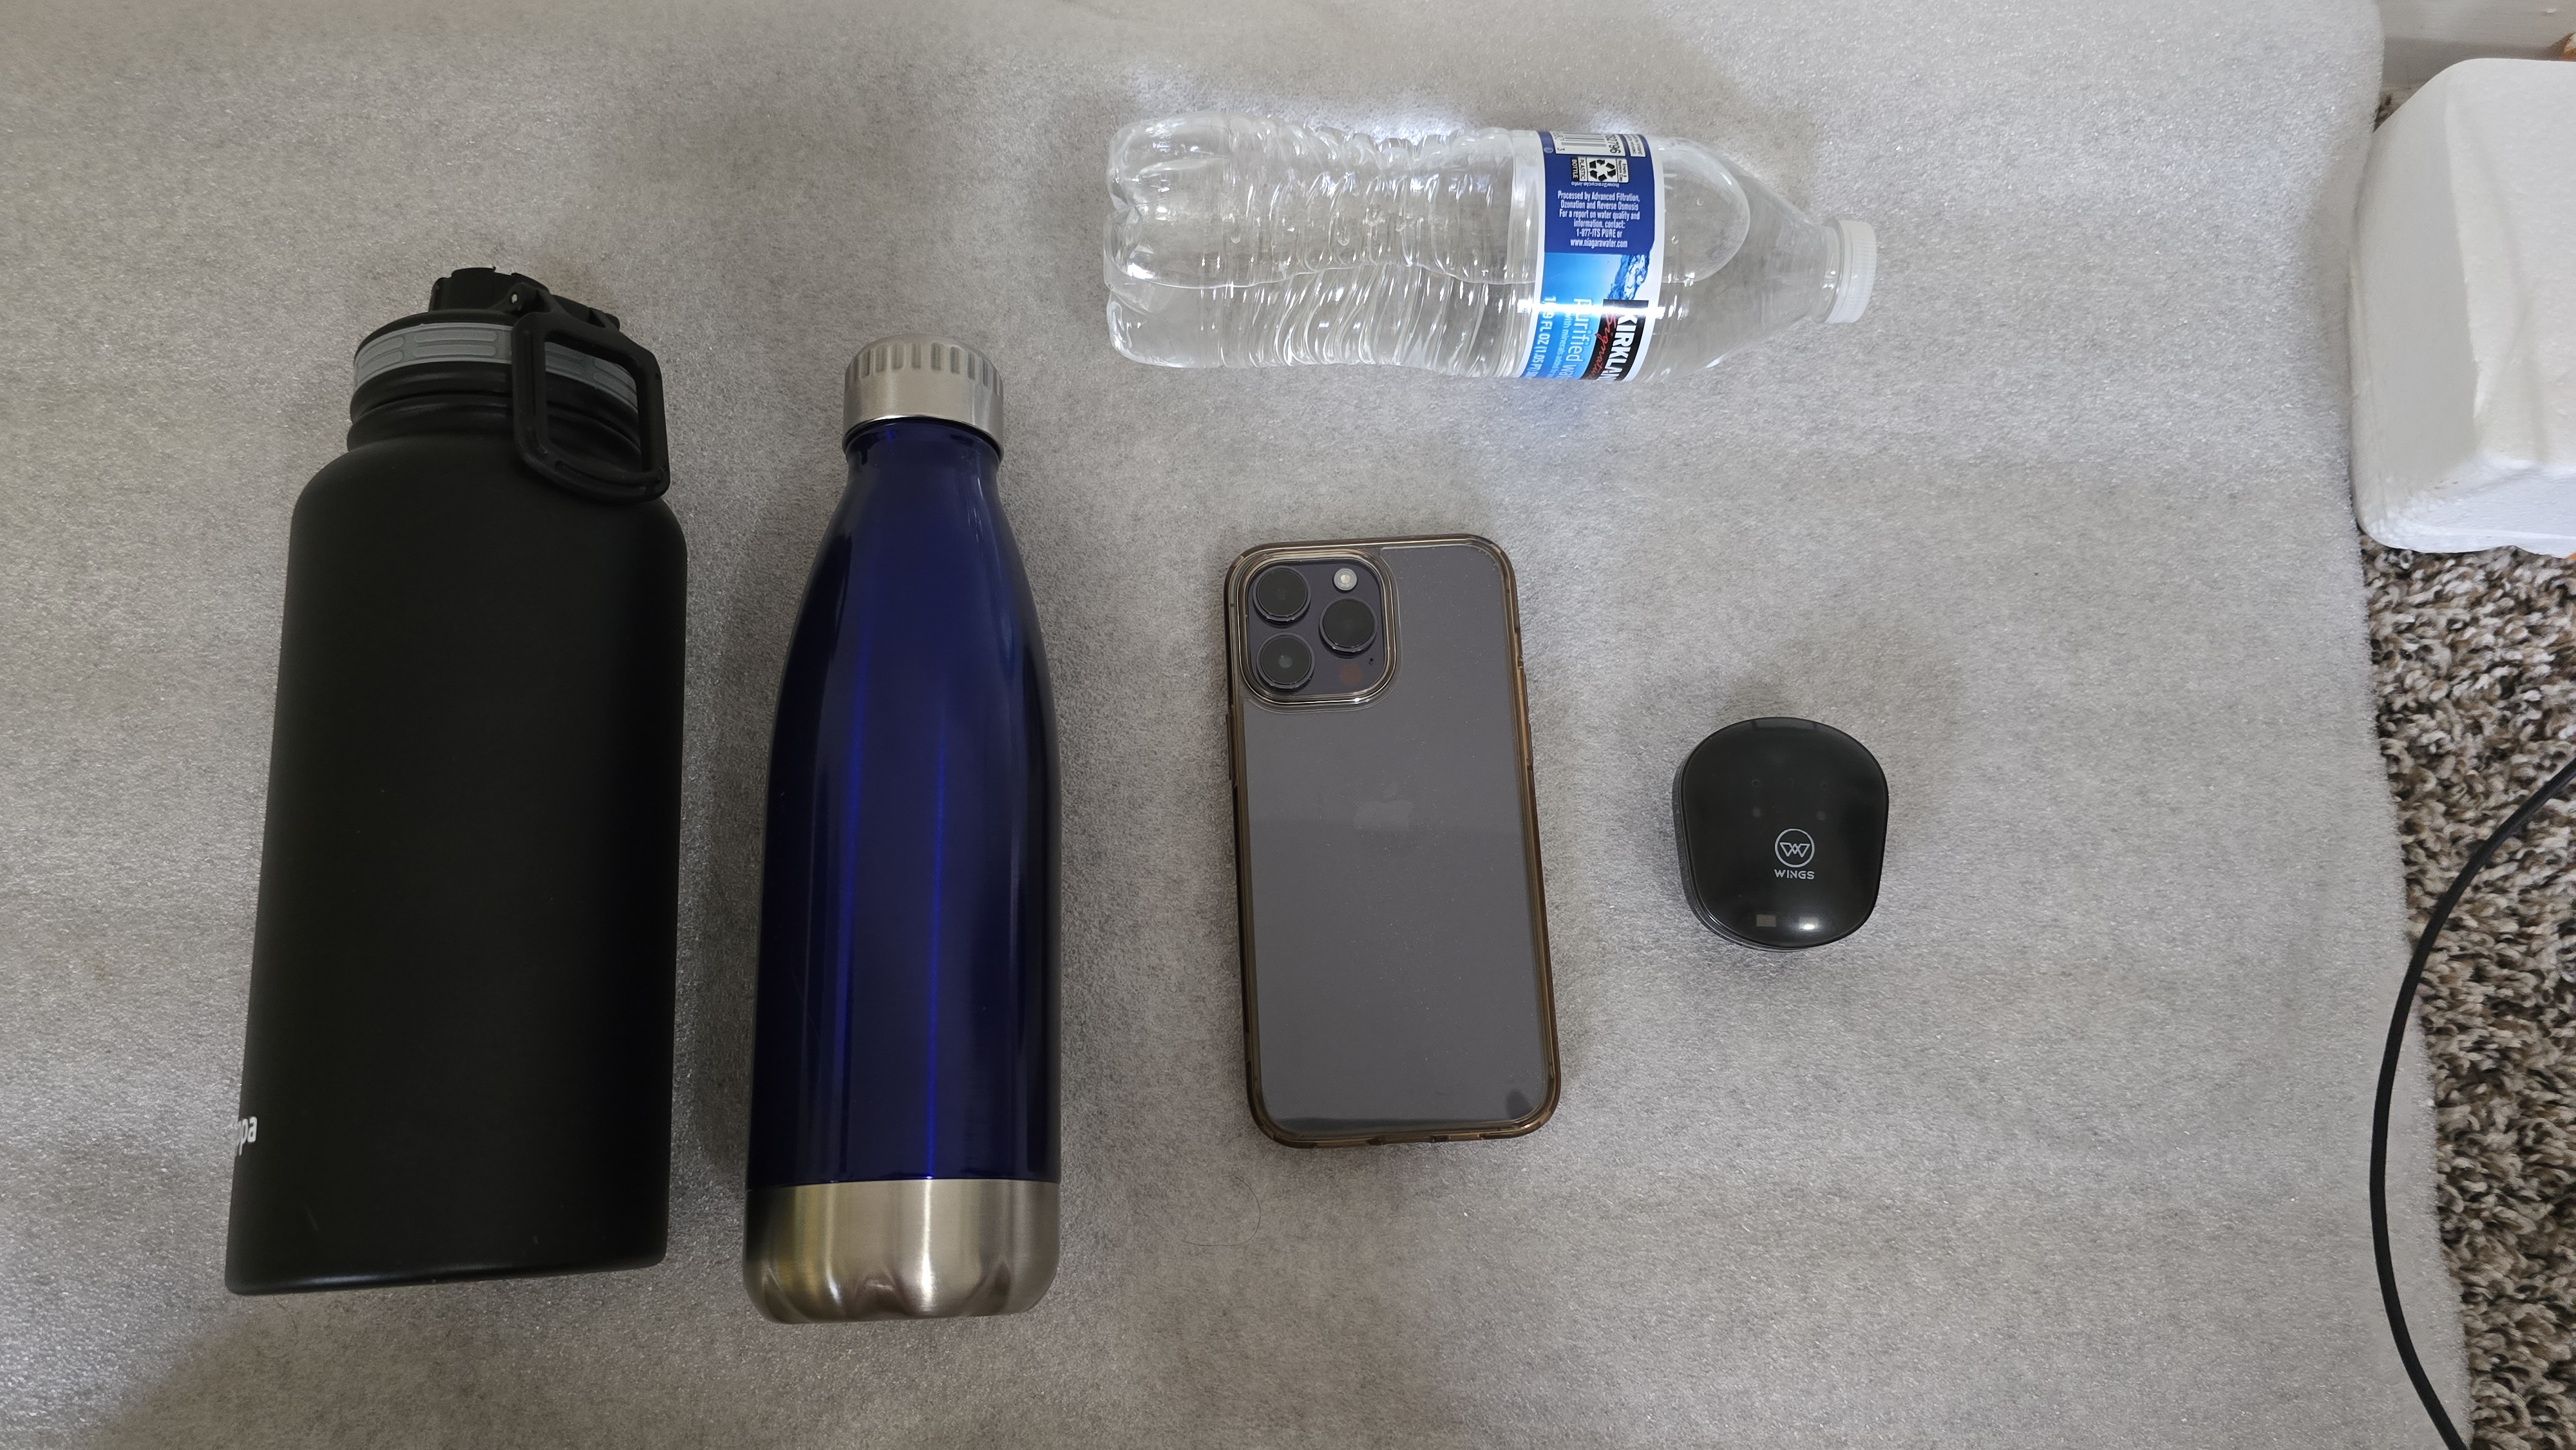bottle: (196, 239, 738, 1316), (747, 297, 1079, 1344), (1062, 83, 1916, 419)
